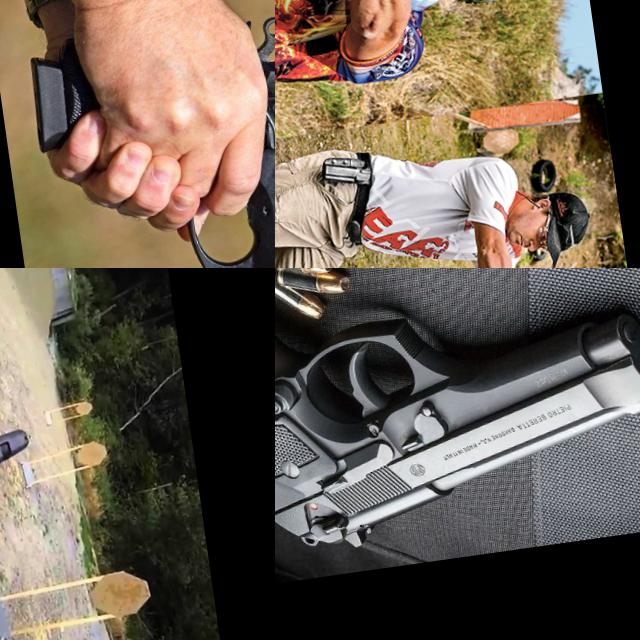handgun: (275, 268, 640, 590), (170, 49, 275, 268), (0, 422, 71, 505), (403, 0, 471, 25)
